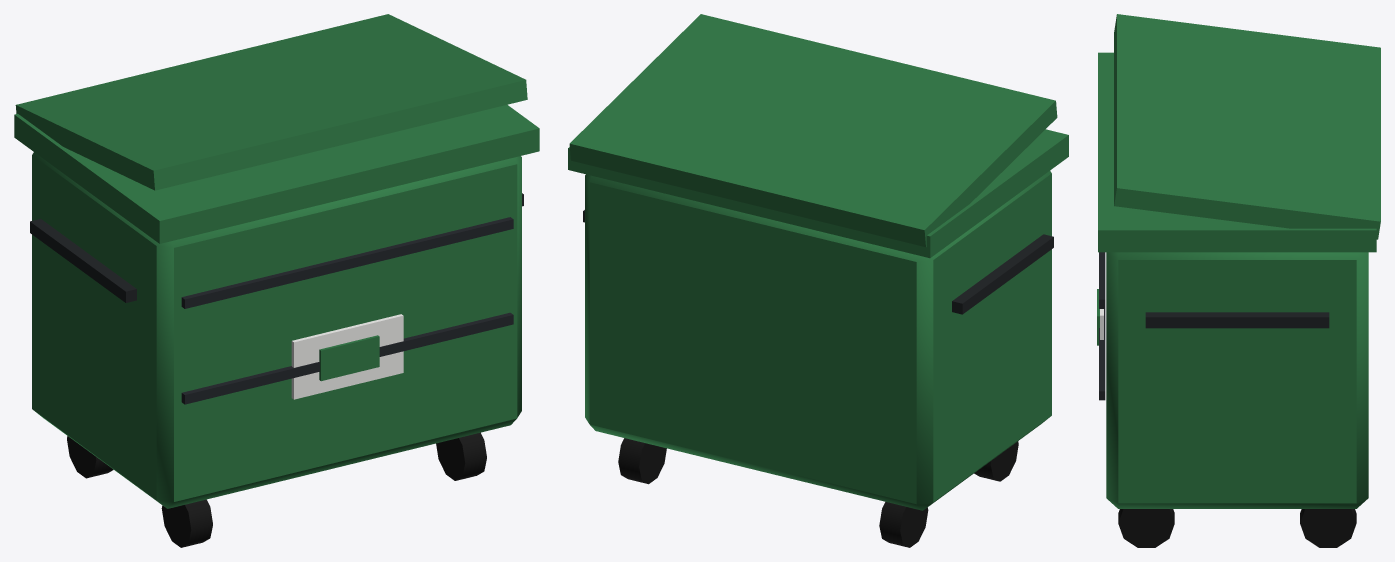
Rendered from contenedor.fbx.
3 views of the same model, side by side, from view 1: azimuth 30°, elevation 25°; view 2: azimuth 150°, elevation 25°; view 3: azimuth 270°, elevation 25° (orthographic). The views are drawn at different scales.
Parts seen in each view (by area): view 1: contenedor; view 2: contenedor; view 3: contenedor.
Boxes of the visible parts, x1,y1,x2,y2 form: contenedor: (14,14,539,547); contenedor: (568,14,1068,547); contenedor: (1097,14,1380,547).
Bounding box in the file's own units: 2.18 × 2.06 × 1.41.
